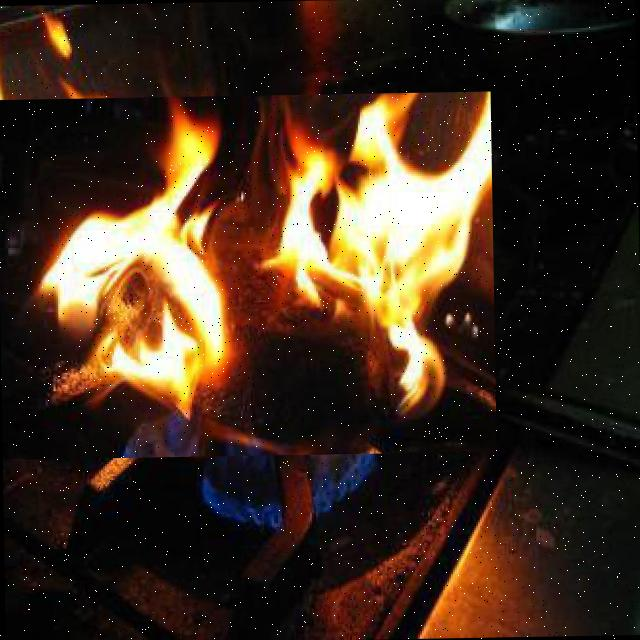fire: (0, 91, 496, 460)
